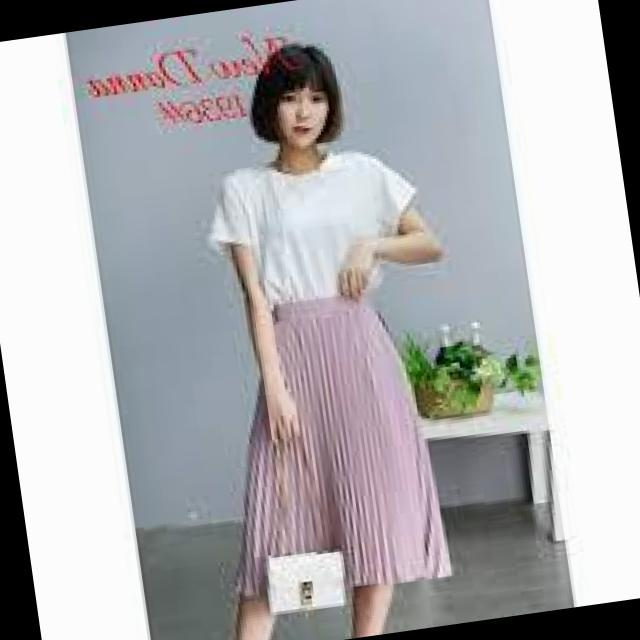Tshirt: (197, 129, 432, 309)
skirt: (201, 283, 451, 611)
